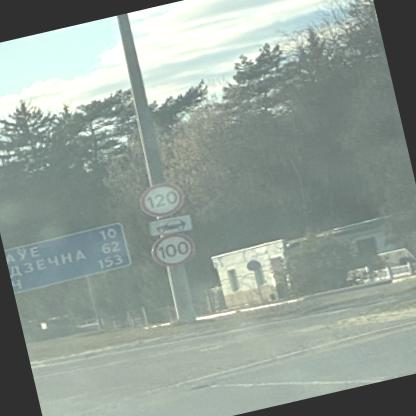speedlimit: (135, 178, 184, 220), (146, 229, 194, 270)
